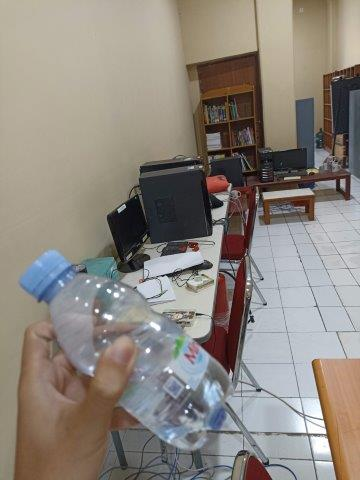botolplastik: (17, 248, 232, 450)
